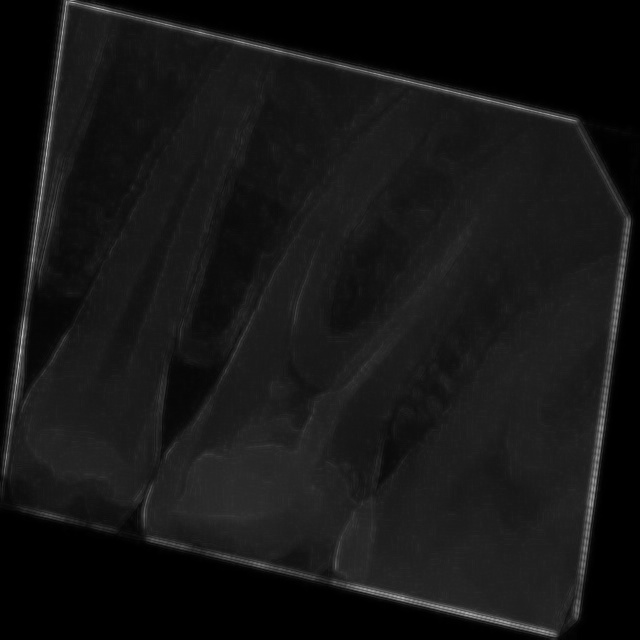Class 1- complete endodontic treatment: (188, 49, 507, 573)
